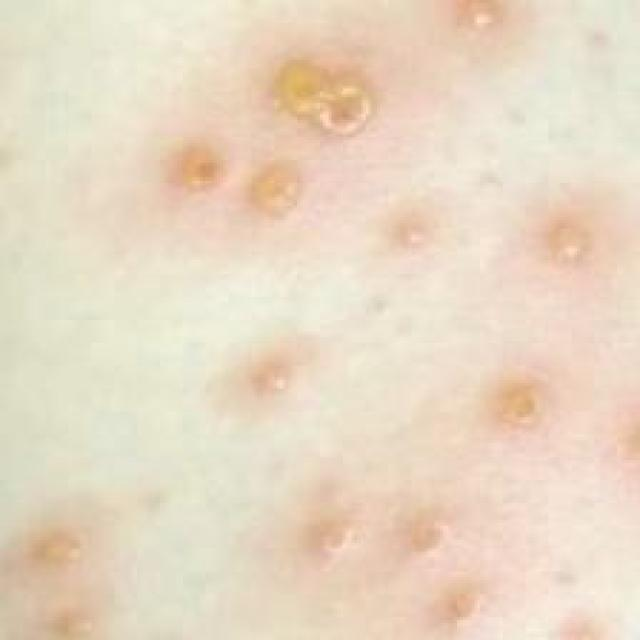others: (30, 0, 638, 636)
